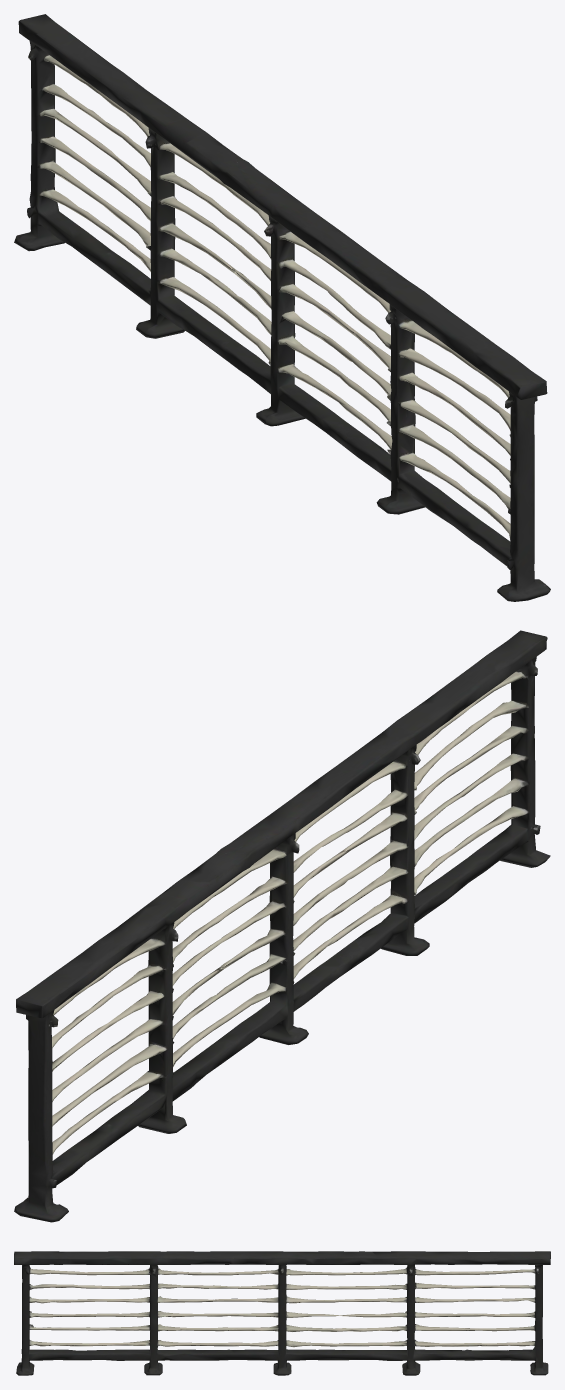
File: railing.glb
3 views of the same model, one above another, from view 1: azimuth 30°, elevation 25°; view 2: azimuth 150°, elevation 25°; view 3: azimuth 270°, elevation 25° (orthographic). The views are drawn at different scales.
Visible parts, largest first — view 1: tripo_node_5353554f-809f-41a6-9e9d-e51547d97b27; view 2: tripo_node_5353554f-809f-41a6-9e9d-e51547d97b27; view 3: tripo_node_5353554f-809f-41a6-9e9d-e51547d97b27.
Boxes of the visible parts, bbox=[...] form: tripo_node_5353554f-809f-41a6-9e9d-e51547d97b27: bbox=[14, 14, 550, 601]; tripo_node_5353554f-809f-41a6-9e9d-e51547d97b27: bbox=[14, 630, 550, 1222]; tripo_node_5353554f-809f-41a6-9e9d-e51547d97b27: bbox=[14, 1251, 550, 1375].
Size of the model in its own units: 0.0545 by 0.2404 by 1.
1 material, 1 textured.
